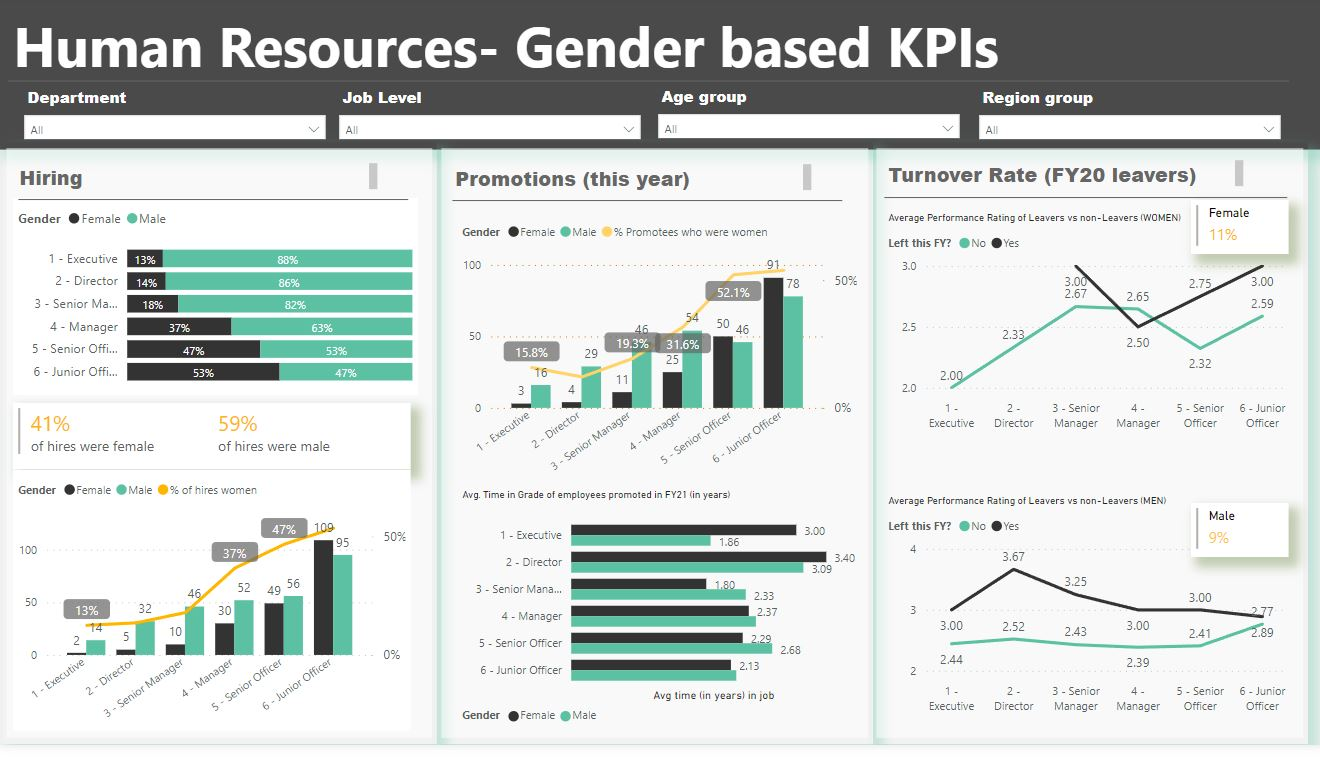

What the dashboard file says about the page in this screenshot:
{"tool":"powerbi","page":{"name":"HR Manager (1/2)","canvas":[1280,720],"ordinal":0},"visuals":[{"type":"basicShape","box":[0,0,1280,147.4],"z":0},{"type":"textbox","box":[9.6,4.8,1252.1,75.1],"z":1000},{"type":"basicShape","box":[0,60.8,1253,40.5],"z":2000},{"type":"basicShape","box":[3.9,139.9,418.6,579.7],"z":3000},{"type":"hundredPercentStackedBarChart","fields":{"Series":["HR Manager.Gender"],"Y":["CountNonNull(HR Manager.Employee ID)"],"Category":["HR Manager.Job Level after FY20 promotions"]},"box":[14.5,193.9,389.7,190],"z":4000},{"type":"multiRowCard","fields":{"Values":["HR Manager.% of hires women","HR Manager.% of hires men"]},"box":[14.5,390.7,382.9,63.7],"z":5000},{"type":"lineClusteredColumnComboChart","fields":{"Category":["HR Manager.Job Level after FY20 promotions"],"Series":["HR Manager.Gender"],"Y":["CountNonNull(HR Manager.Employee ID)"],"Y2":["HR Manager.% of hires women"]},"box":[14.5,455.3,382.9,250.8],"z":6000},{"type":"textbox","box":[15.4,155.1,355.4,35.6],"z":7000},{"type":"basicShape","box":[9.6,175.6,395.5,39.5],"z":8000},{"type":"basicShape","box":[422.5,139.9,419.6,579.7],"z":9000},{"type":"textbox","box":[435.3,156,353.5,35.6],"z":10000},{"type":"basicShape","box":[427.7,175.9,395.5,39.5],"z":11000},{"type":"lineClusteredColumnComboChart","fields":{"Y":["CountNonNull(HR Manager.Employee ID)"],"Series":["HR Manager.Gender"],"Y2":["HR Manager.% Promotees who were women"],"Category":["HR Manager.Job Level after FY21 promotions"]},"box":[441.8,207.4,389.7,263.3],"z":13000},{"type":"basicShape","box":[842.1,139.9,419.6,579.7],"z":15000},{"type":"basicShape","box":[843.4,173,408,39.5],"z":16000},{"type":"textbox","box":[852.4,152.2,351.5,35.6],"z":17000},{"type":"clusteredBarChart","title":"Avg. Time in Grade of employees promoted in FY21 (in years)","fields":{"Category":["HR Manager.Job Level after FY20 promotions"],"Series":["HR Manager.Gender"],"Y":["Avg(HR Manager.Time in Job Level @01.07.2020)"]},"box":[441.8,473.6,389.7,236.3],"z":18000},{"type":"lineChart","title":"Average Performance Rating of Leavers vs non-Leavers (WOMEN)","fields":{"Category":["HR Manager.Job Level after FY20 promotions"],"Y":["Avg(HR Manager.FY19 Performance Rating)"],"Series":["HR Manager.FY20 leaver?"]},"box":[852.7,207.4,398.4,218],"z":19000},{"type":"lineChart","title":"Average Performance Rating of Leavers vs non-Leavers (MEN)","fields":{"Category":["HR Manager.Job Level after FY20 promotions"],"Y":["Avg(HR Manager.FY19 Performance Rating)"],"Series":["HR Manager.FY20 leaver?"]},"box":[852.7,479.4,398.4,218],"z":20000},{"type":"multiRowCard","fields":{"Values":["HR Manager.Gender","HR Manager.% Turnover"]},"box":[1148.8,195.8,93.6,52.1],"z":21000},{"type":"multiRowCard","fields":{"Values":["HR Manager.Gender","HR Manager.% Turnover"]},"box":[1148.8,487.1,93.6,52.1],"z":22000},{"type":"slicer","fields":{"Values":["HR Manager.Last Department in FY20"]},"box":[15.4,80.9,310.1,55.9],"z":23000},{"type":"slicer","fields":{"Values":["HR Manager.Job Level after FY20 promotions"]},"box":[318.8,80.9,310.1,55.9],"z":24000},{"type":"slicer","fields":{"Values":["HR Manager.Age group"]},"box":[626,79.9,310.1,55.9],"z":25000},{"type":"slicer","fields":{"Values":["HR Manager.Broad region group: nationality 1"]},"box":[935.2,80.9,310.1,55.9],"z":26000},{"type":"textbox","box":[7.7,689.7,397.4,29.9],"z":28000}]}

Visuals, with their boxes in screenshot pixels (x1, y1, x2, y2), scaled from the page's 1280x720 canvas onto the 1320x763 screenshot:
basicShape: region(0, 0, 1319, 156)
textbox: region(10, 5, 1301, 85)
basicShape: region(0, 64, 1292, 107)
basicShape: region(4, 148, 436, 762)
hundredPercentStackedBarChart - HR Manager.Gender x CountNonNull(HR Manager.Employee ID): region(15, 205, 417, 407)
multiRowCard - HR Manager.% of hires women x HR Manager.% of hires men: region(15, 414, 410, 482)
lineClusteredColumnComboChart - HR Manager.Job Level after FY20 promotions x HR Manager.Gender: region(15, 482, 410, 748)
textbox: region(16, 164, 382, 202)
basicShape: region(10, 186, 418, 228)
basicShape: region(436, 148, 868, 762)
textbox: region(449, 165, 813, 203)
basicShape: region(441, 186, 849, 228)
lineClusteredColumnComboChart - CountNonNull(HR Manager.Employee ID) x HR Manager.Gender: region(456, 220, 857, 499)
basicShape: region(868, 148, 1301, 762)
basicShape: region(870, 183, 1291, 225)
textbox: region(879, 161, 1242, 199)
"Avg. Time in Grade of employees promoted in FY21 (in years)" clusteredBarChart: region(456, 502, 857, 752)
"Average Performance Rating of Leavers vs non-Leavers (WOMEN)" lineChart: region(879, 220, 1290, 451)
"Average Performance Rating of Leavers vs non-Leavers (MEN)" lineChart: region(879, 508, 1290, 739)
multiRowCard - HR Manager.Gender x HR Manager.% Turnover: region(1185, 207, 1281, 263)
multiRowCard - HR Manager.Gender x HR Manager.% Turnover: region(1185, 516, 1281, 571)
slicer - HR Manager.Last Department in FY20: region(16, 86, 336, 145)
slicer - HR Manager.Job Level after FY20 promotions: region(329, 86, 649, 145)
slicer - HR Manager.Age group: region(646, 85, 965, 144)
slicer - HR Manager.Broad region group: nationality 1: region(964, 86, 1284, 145)
textbox: region(8, 731, 418, 762)
